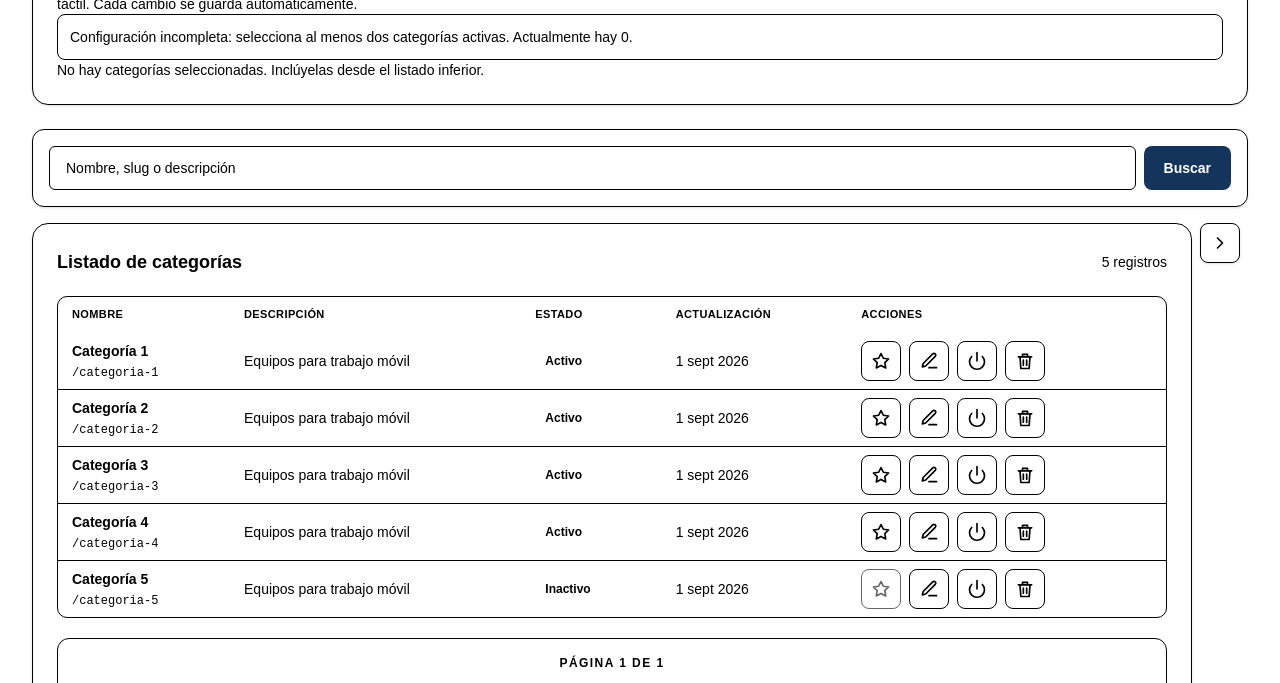
Test: administrative categories and tags › selects globally limited categories without downloading every page and invalidates landing
(page scrolled)
Expected: the text "Configuración incompleta" is shown, [70,29,621,45]
Click the button named "Incluir Categoría 1 en la landing". click: point(881, 361)
box: [861,341,901,381]
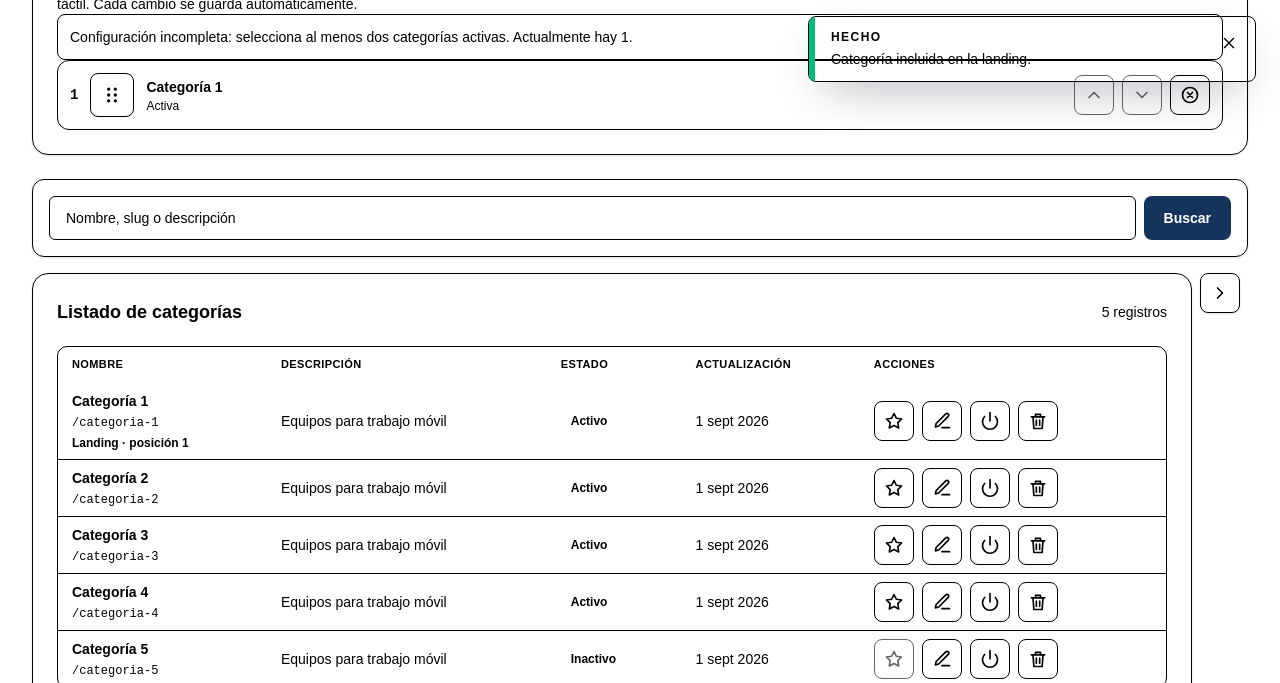
Click the button named "Incluir Categoría 2 en la landing". click: point(894, 488)
box: [874,468,914,508]
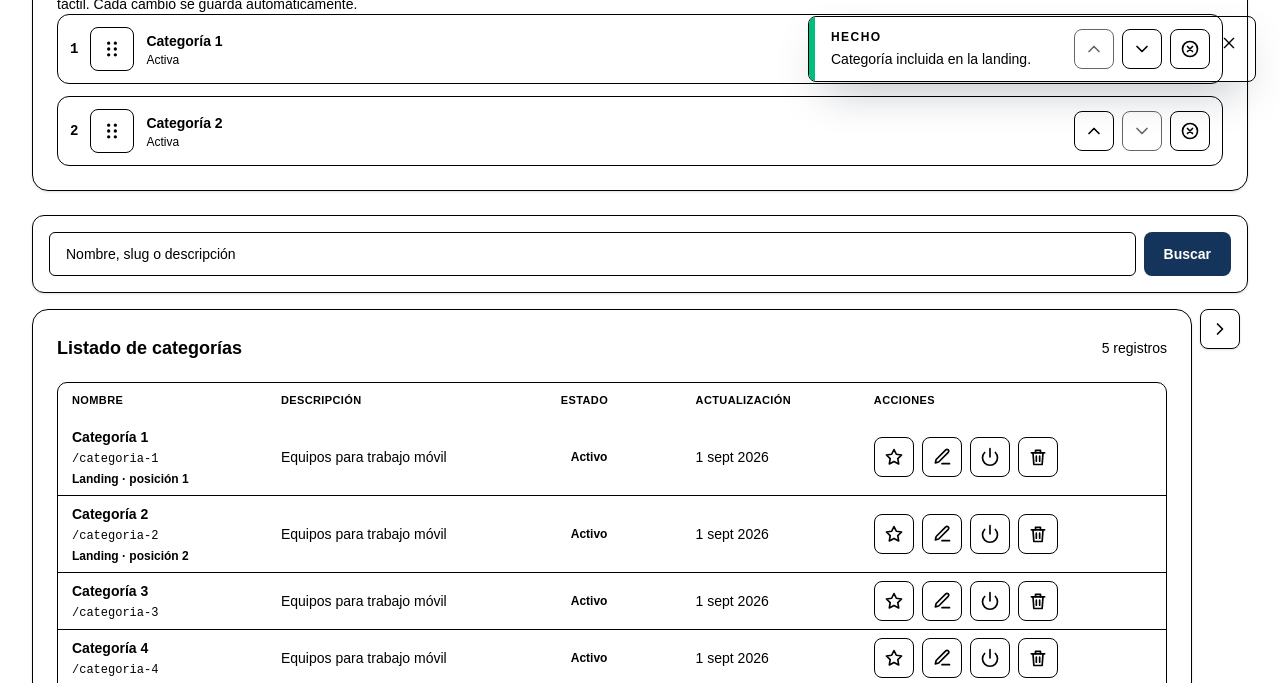
Click the button named "Incluir Categoría 3 en la landing". click: point(894, 601)
box: [874,581,914,621]
(page scrolled)
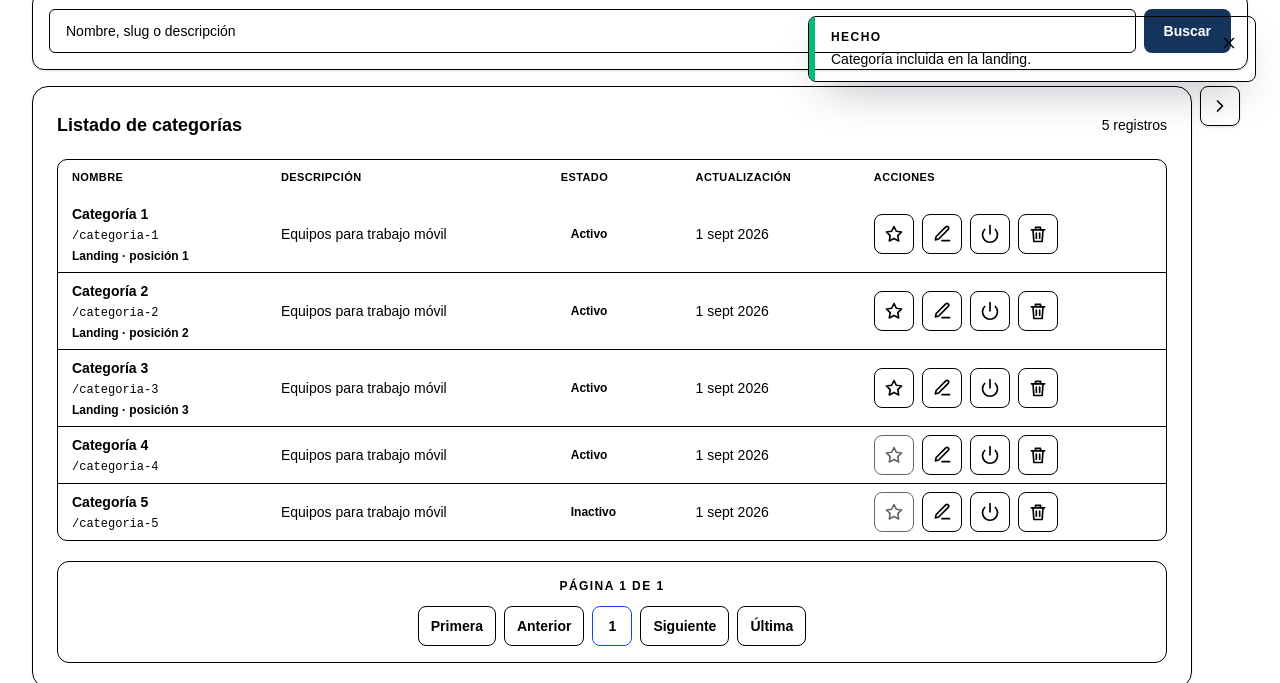
Expected: the button named "Incluir Categoría 5 en la landing" is disabled, [874,492,914,532]
Expected: the button named "Incluir Categoría 4 en la landing" is disabled, [874,435,914,475]
